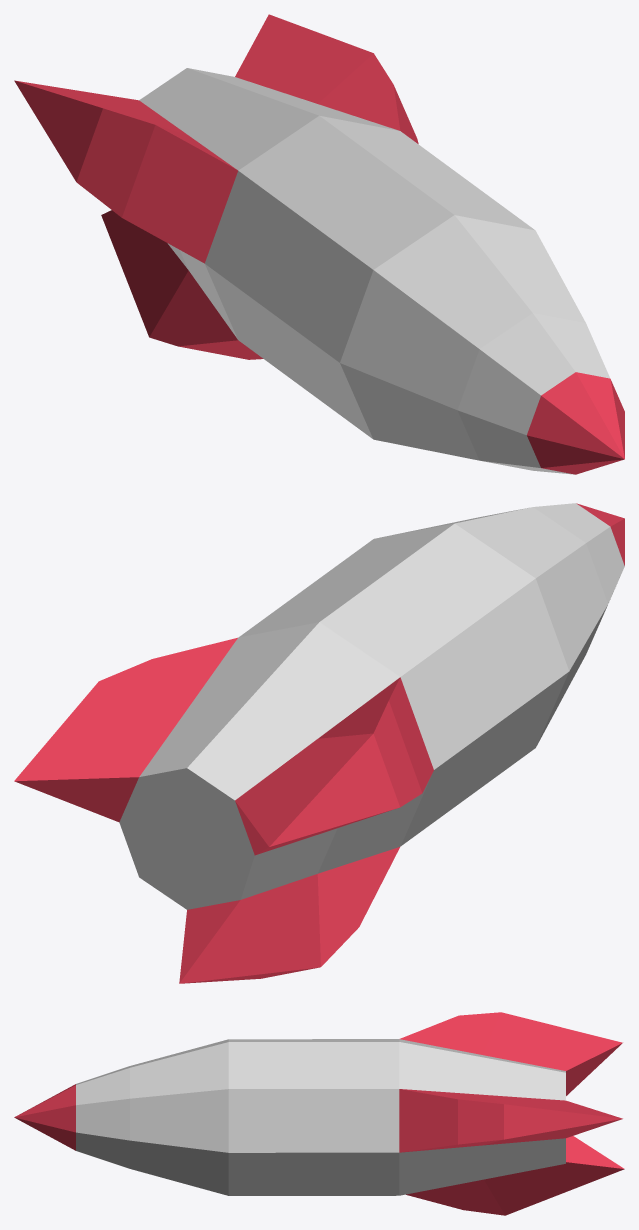
The model's file is cuteSpaceship.gltf.
3 views of the same model, one above another, from view 1: azimuth 30°, elevation 25°; view 2: azimuth 150°, elevation 25°; view 3: azimuth 270°, elevation 25° (orthographic). The views are drawn at different scales.
Parts seen in each view (by area): view 1: Cylinder_Material.002_0; view 2: Cylinder_Material.002_0; view 3: Cylinder_Material.002_0.
Boxes of the visible parts, left/top/right/bottom form: Cylinder_Material.002_0: left=14, top=14, right=624, bottom=474; Cylinder_Material.002_0: left=14, top=503, right=624, bottom=983; Cylinder_Material.002_0: left=14, top=1012, right=624, bottom=1215.
Bounding box in the file's own units: 2.77 × 2.41 × 7.33.
